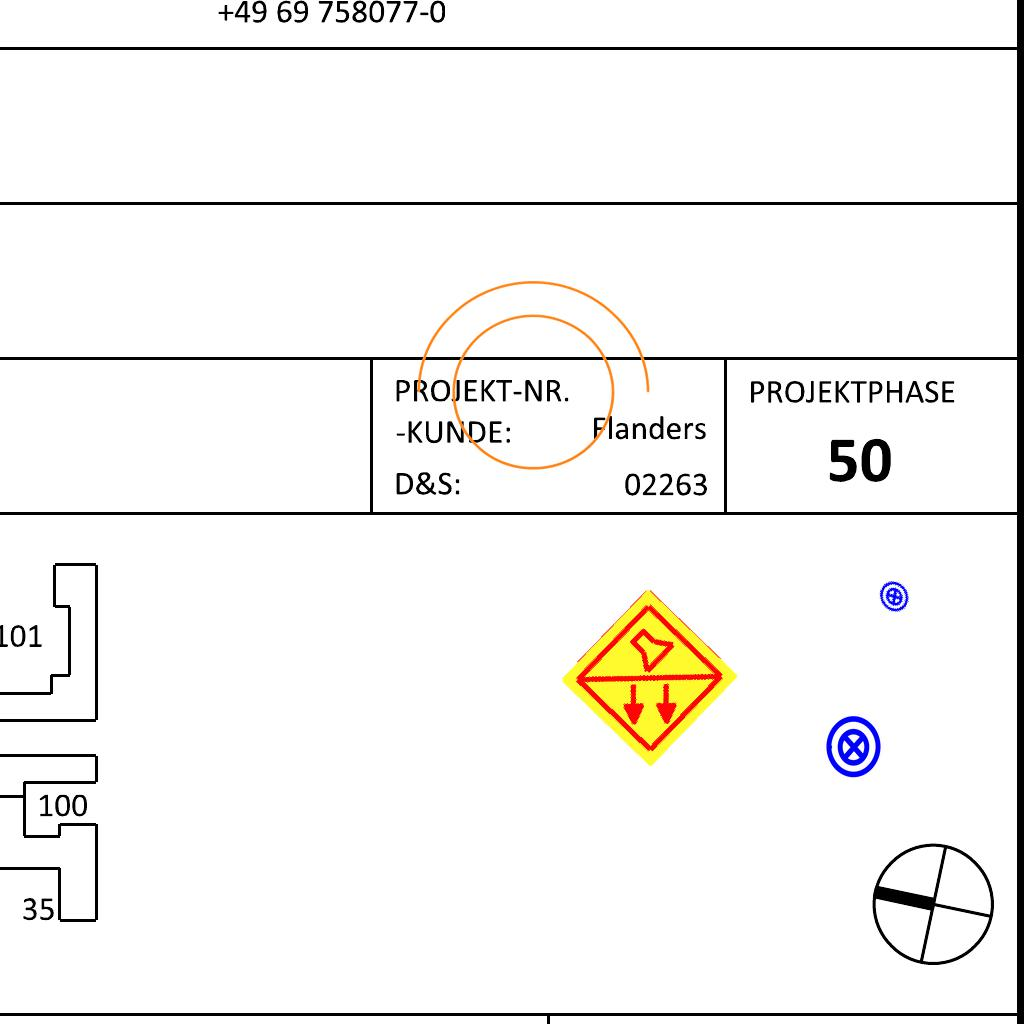OKW_Multisensormelder_(Kombination_optischer_Rauch-Kahlenmonoxid_Waerme-Melder): (555, 584, 743, 772)
Scheinwerfer_fuer_Alarmbeleuchtung: (395, 270, 659, 495)
Taster_beleuchtet: (821, 714, 887, 780), (871, 573, 918, 620)
